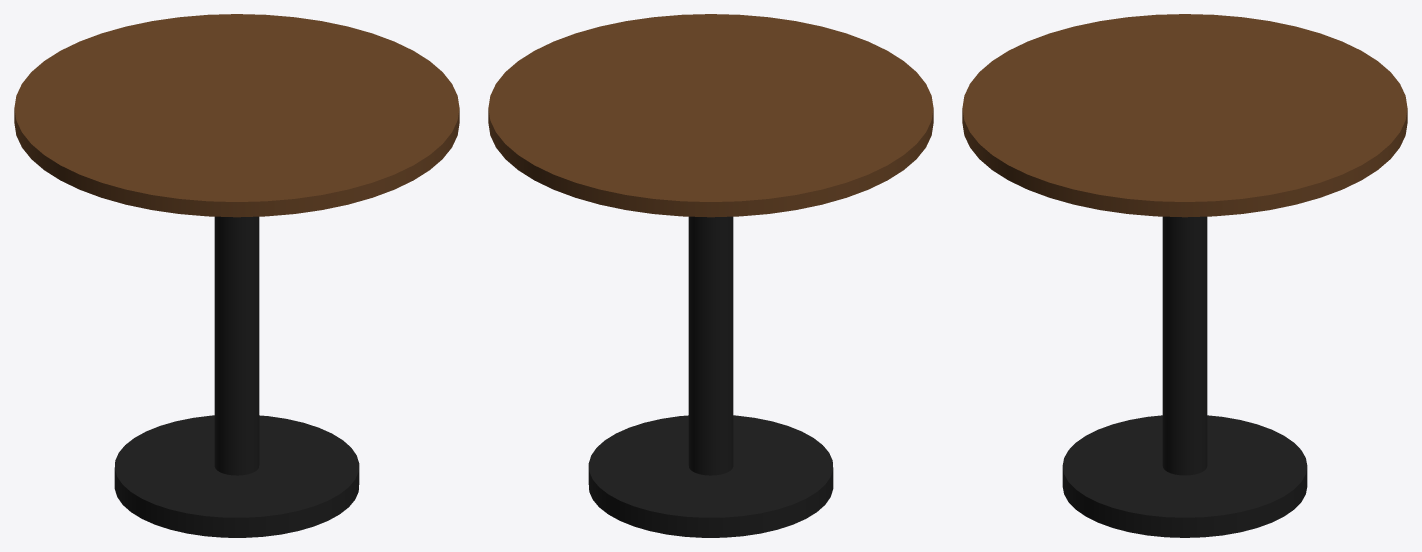
File: mesa-placa.glb
The picture shows the model from 3 angles, left to right: view 1: azimuth 30°, elevation 25°; view 2: azimuth 150°, elevation 25°; view 3: azimuth 270°, elevation 25°; orthographic projection.
Parts seen in each view (by area): view 1: mesa-placa; view 2: mesa-placa; view 3: mesa-placa.
Boxes of the visible parts, x1=… form: mesa-placa: x1=14, y1=14, x2=459, y2=537; mesa-placa: x1=488, y1=14, x2=933, y2=537; mesa-placa: x1=962, y1=14, x2=1407, y2=537.
Bounding box in the file's own units: 0.8 × 0.75 × 0.8.
